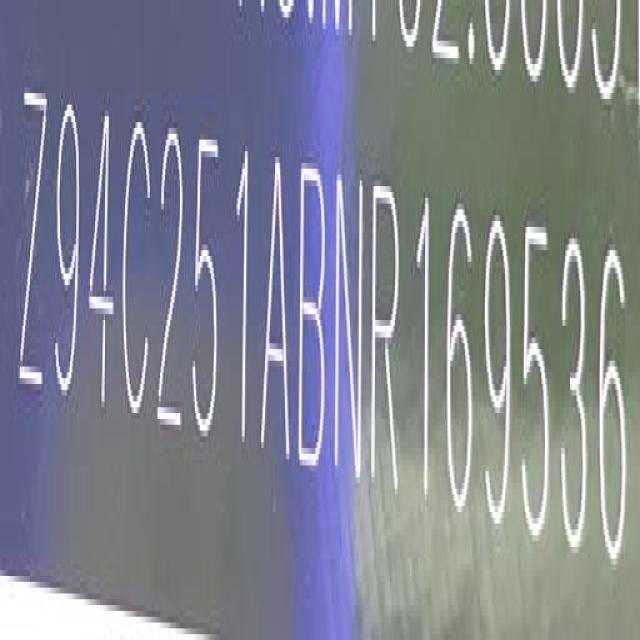1: (415, 195, 435, 514), (235, 135, 251, 456)
2: (156, 114, 185, 437)
3: (560, 229, 590, 567)
4: (89, 102, 117, 417)
5: (524, 215, 554, 557), (194, 122, 223, 446)
6: (445, 197, 478, 531), (599, 235, 631, 572)
9: (483, 213, 514, 538), (51, 92, 80, 408)
A: (264, 154, 292, 470)
B: (298, 155, 330, 475)
C: (122, 112, 156, 431)
N: (334, 165, 366, 490)
R: (374, 177, 404, 502)
Z: (20, 79, 48, 404)
